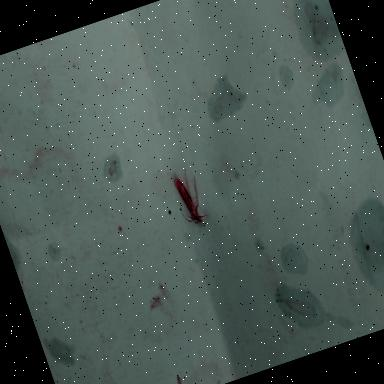pbw: (169, 166, 210, 227)
